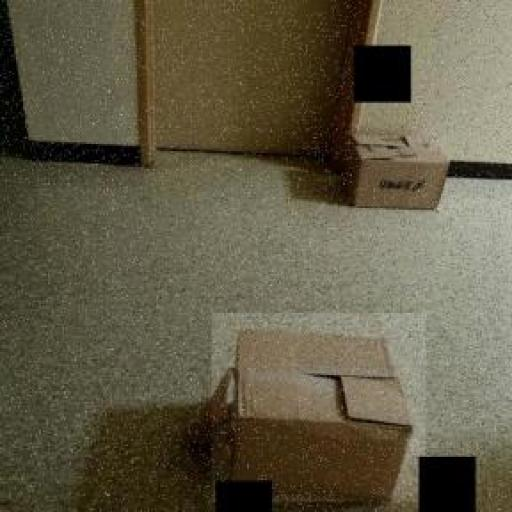box: (212, 312, 426, 502)
